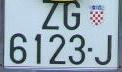-: (87, 47, 93, 52)
1: (34, 34, 42, 64)
2: (49, 34, 66, 64)
3: (69, 34, 85, 65)
6: (10, 33, 27, 65)
G: (63, 1, 80, 30)
J: (95, 35, 111, 64)
Z: (43, 2, 59, 30)
